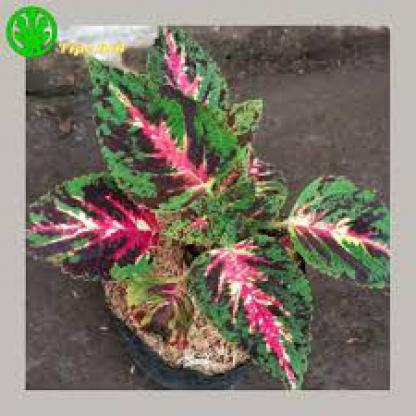Bunga Coleus: (66, 36, 371, 369)
